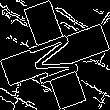M_E: (23, 25, 87, 85)
